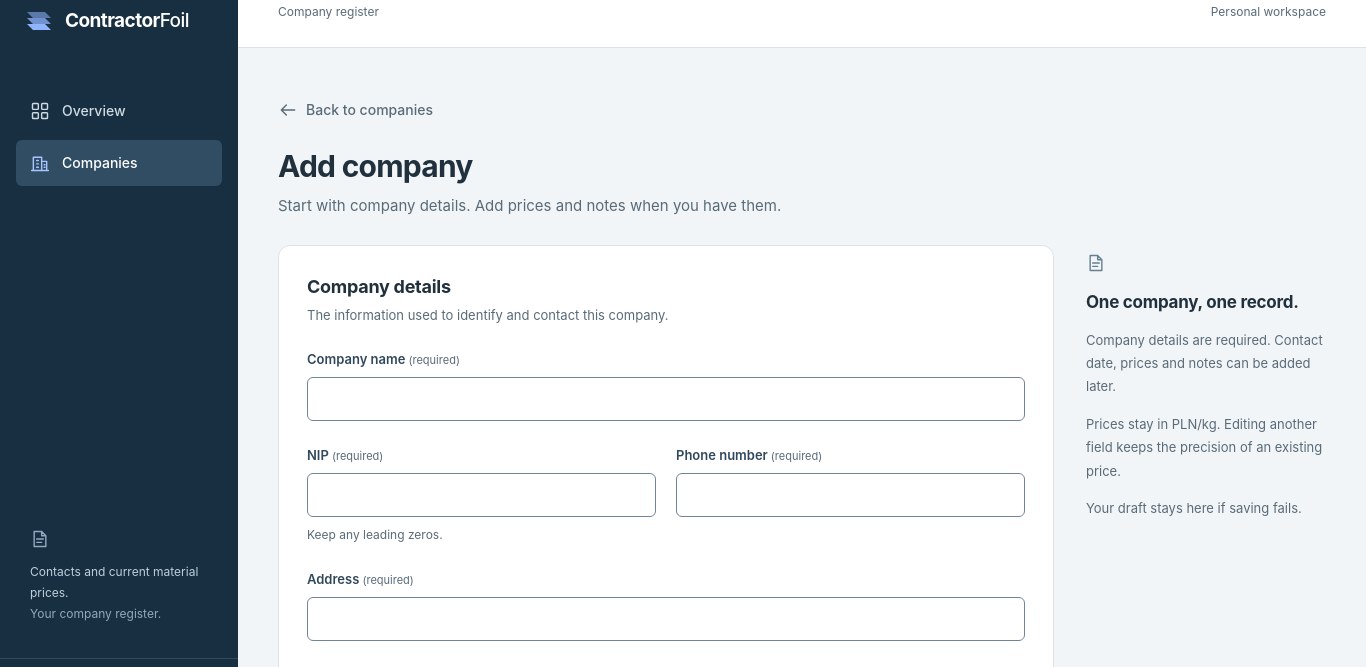
Scenario: preserves a failed creation draft and displays field-specific feedback
This screenshot has width=1366, height=667.
Type "Riverbank Polymers" into the field labelled "Company name (required)". click: (666, 399)
box: 307,377 -> 1025,421
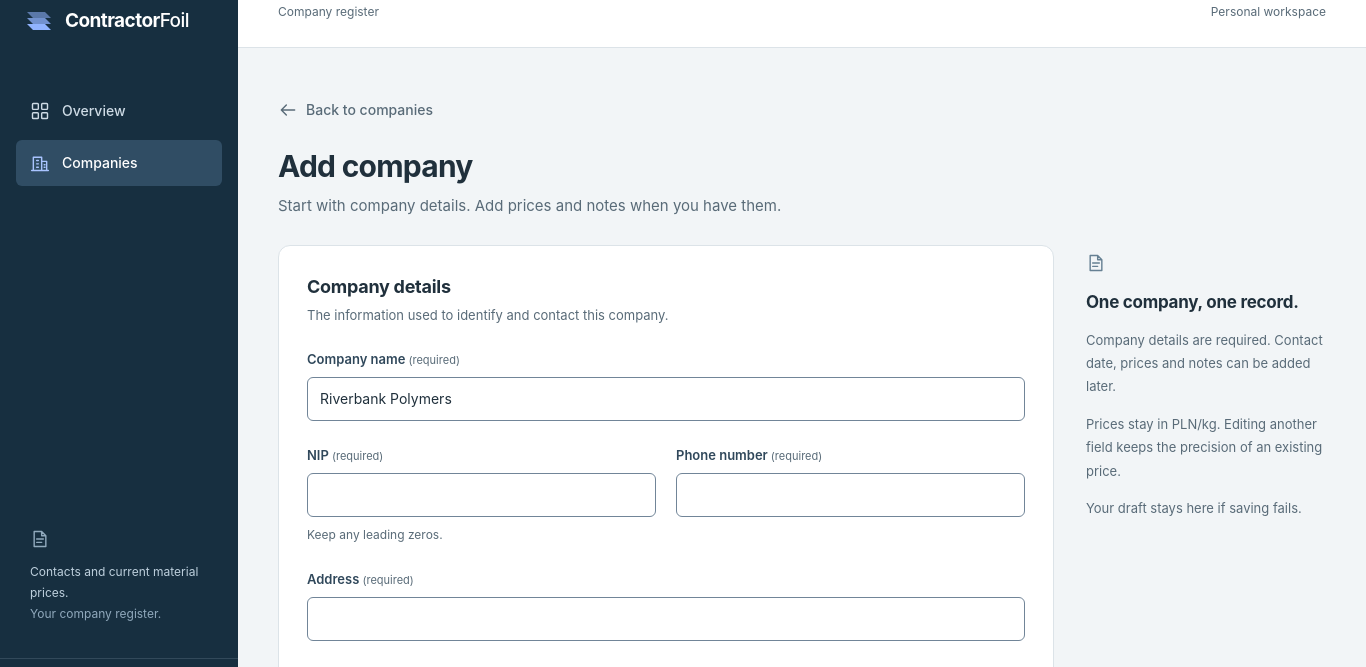
Type "0001234567" into the field labelled "NIP (required)". click: (482, 495)
box: 307,473 -> 656,517
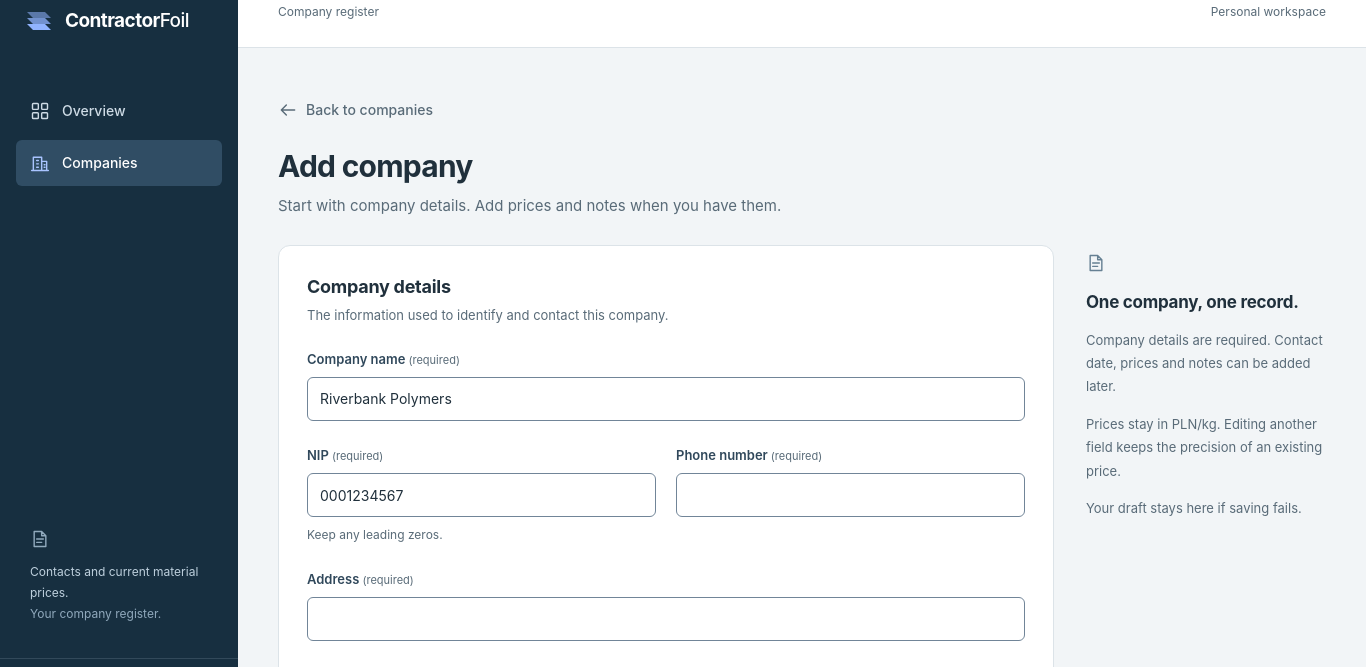
Type "+48 987 654 321" into the field labelled "Phone number (required)". click: (850, 495)
box: 676,473 -> 1025,517
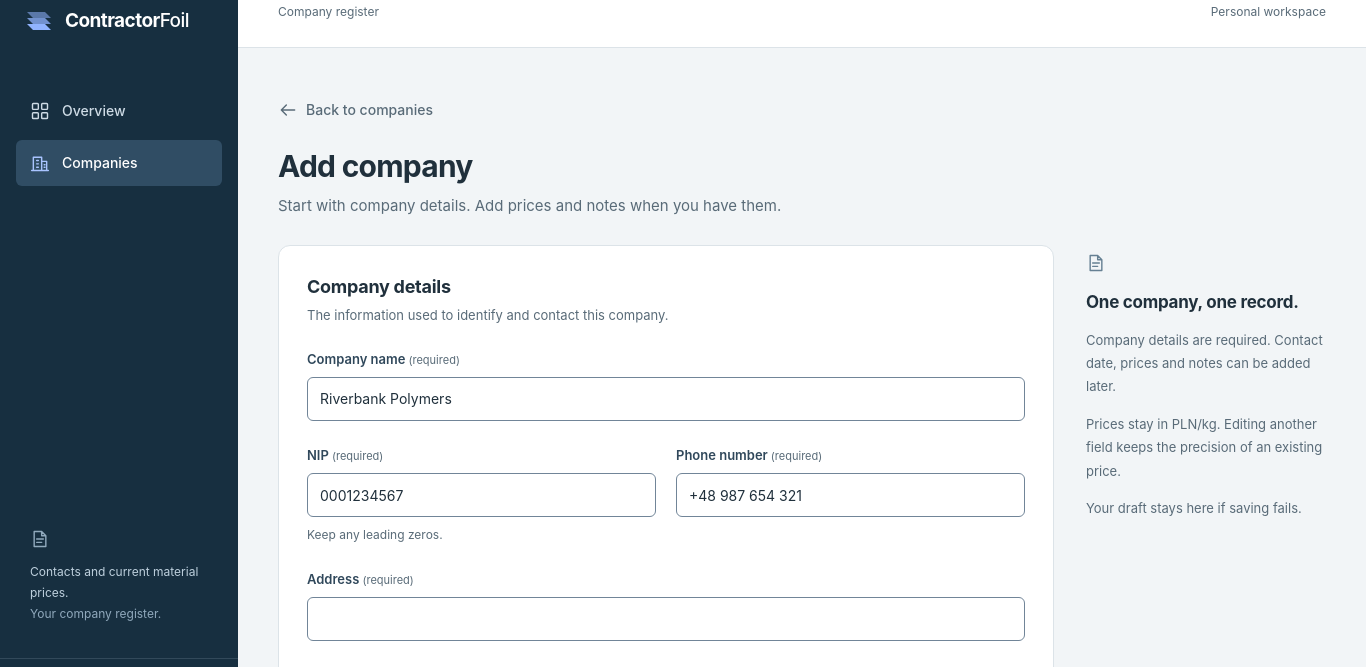
Type "42 Example Avenue" into the field labelled "Address (required)". click: (666, 619)
box: 307,597 -> 1025,641
(page scrolled)
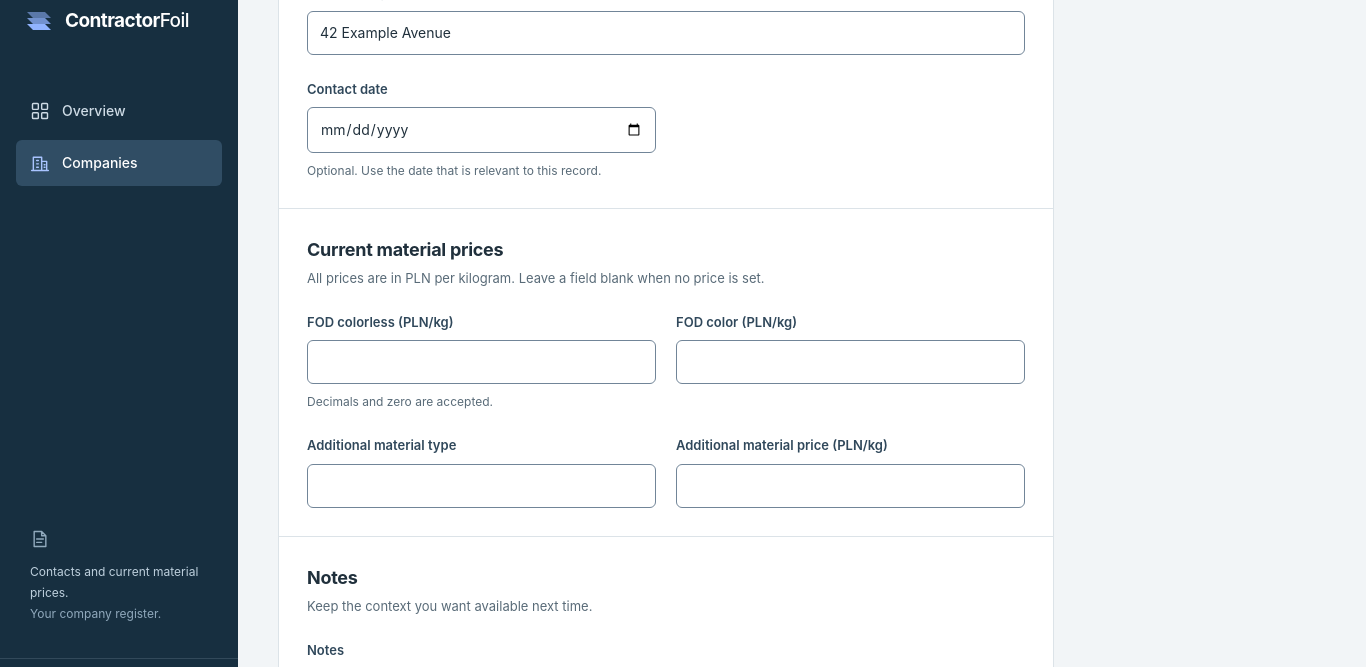
Type "0" into the field labelled "FOD colorless (PLN/kg)". click: (482, 362)
box: 307,340 -> 656,384
(page scrolled)
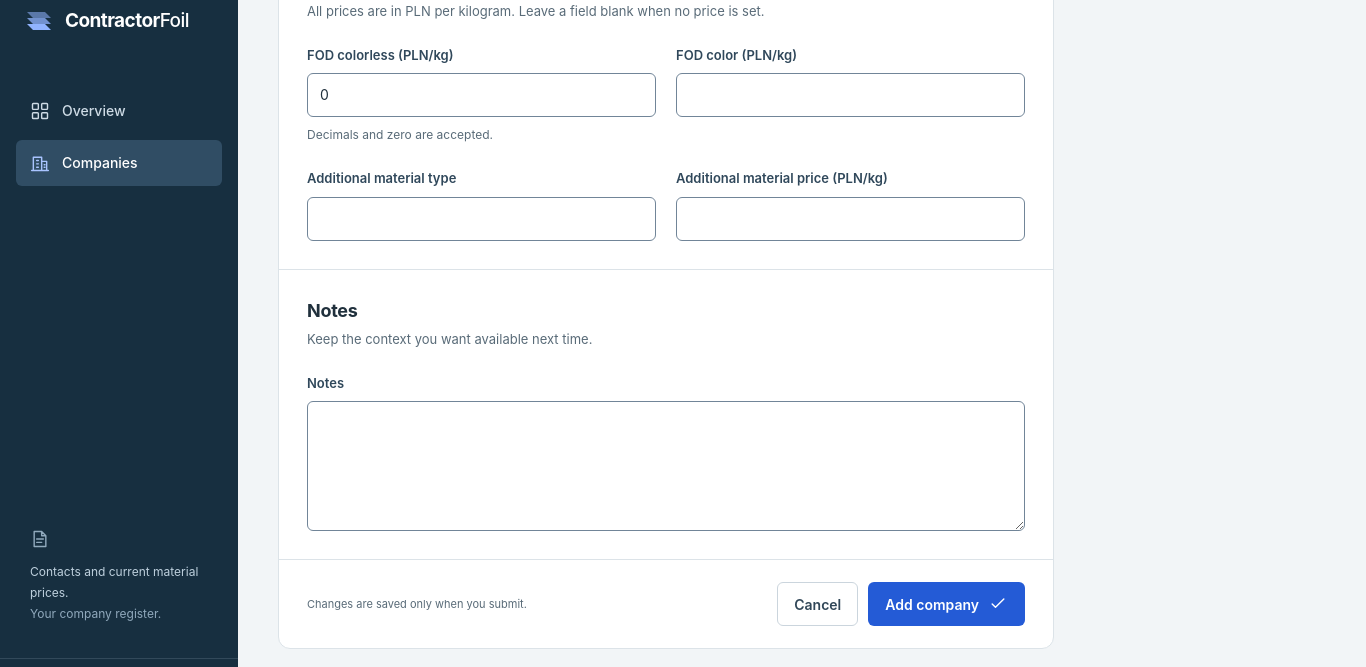
Click the button "Add company". click: (947, 604)
box: 868,582 -> 1025,626
(page scrolled)
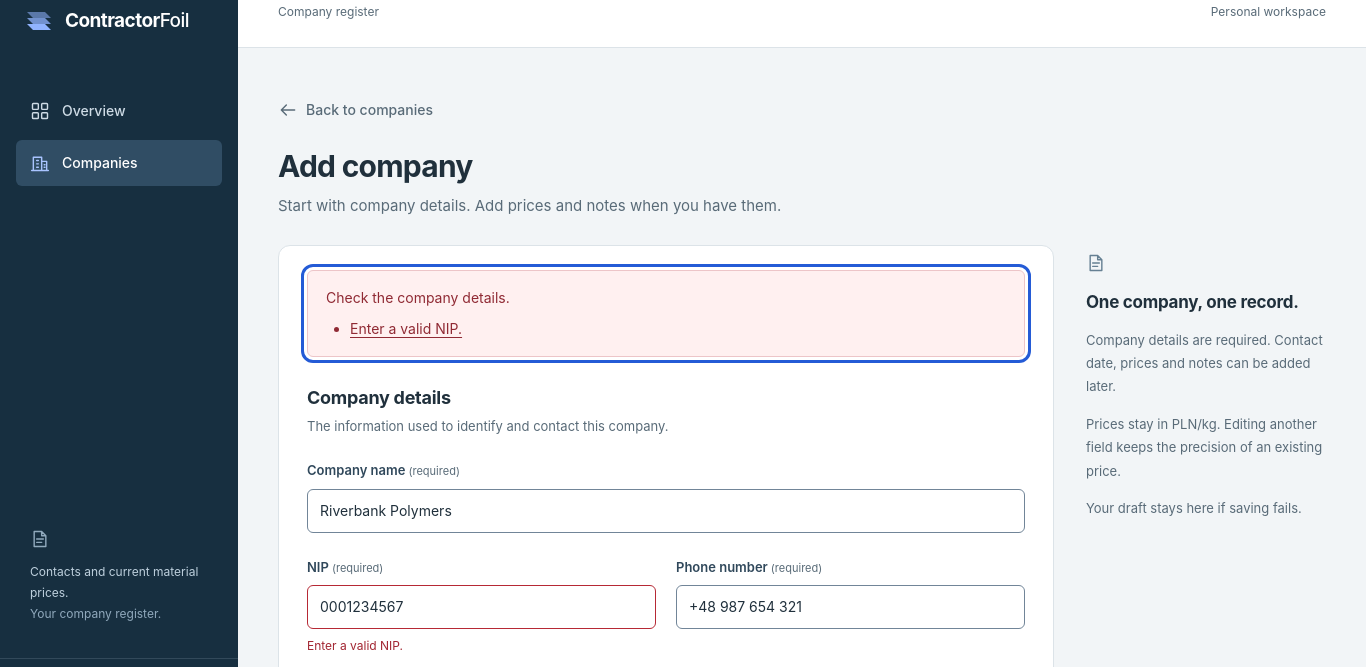
Result: the message shows "Check the company details." at 326,289 -> 510,306
